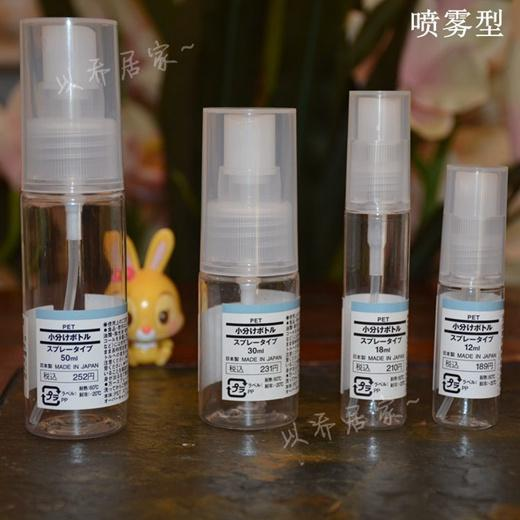plastic: (20, 17, 127, 407), (198, 108, 299, 429), (340, 90, 409, 430), (433, 165, 507, 428), (24, 295, 127, 438)
